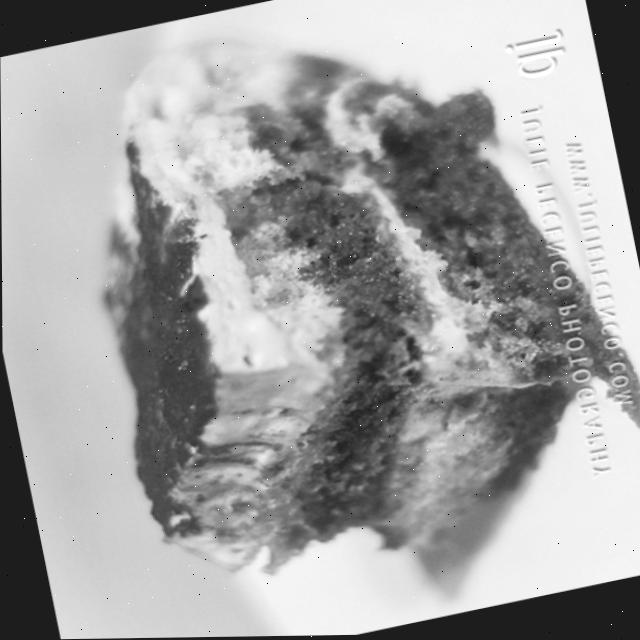蛋糕甜品: (35, 0, 640, 616)
